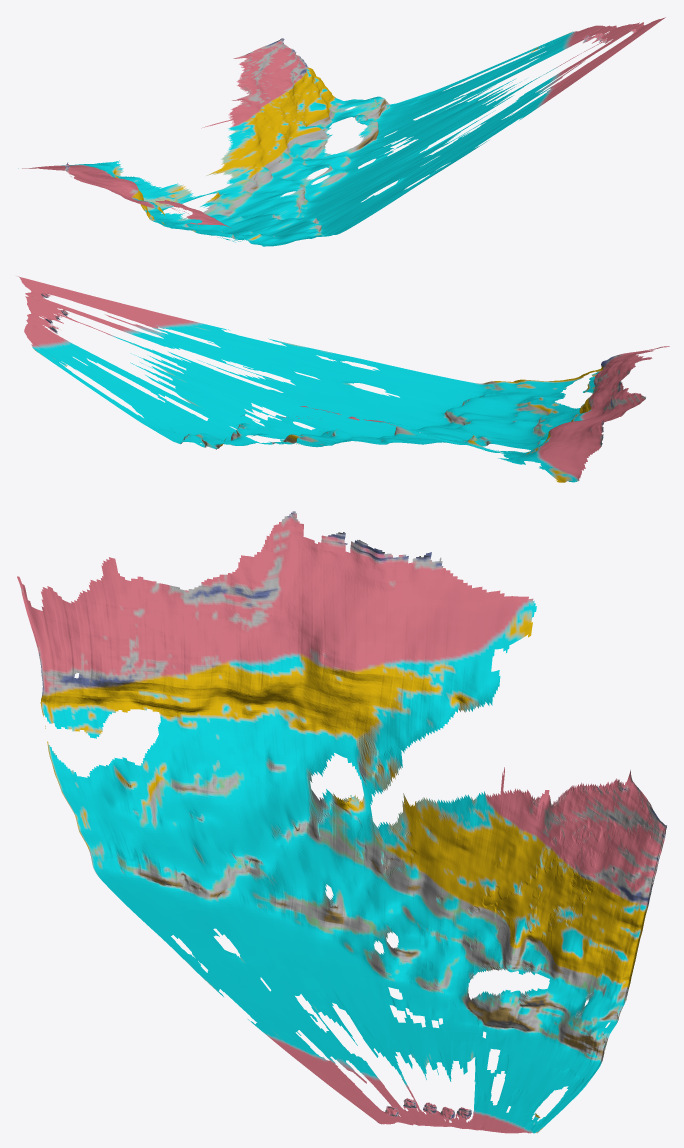
The model's file is segmented.glb.
3 views of the same model, one above another, from view 1: azimuth 30°, elevation 25°; view 2: azimuth 150°, elevation 25°; view 3: azimuth 270°, elevation 25° (orthographic). The views are drawn at different scales.
Visible parts, largest first — view 1: geometry_0; view 2: geometry_0; view 3: geometry_0.
Boxes of the visible parts, x1,y1,x2,y2 form: geometry_0: [18, 17, 665, 246]; geometry_0: [17, 276, 669, 482]; geometry_0: [17, 511, 666, 1133].
Bounding box in the file's own units: 33.34 × 4.93 × 15.41.
